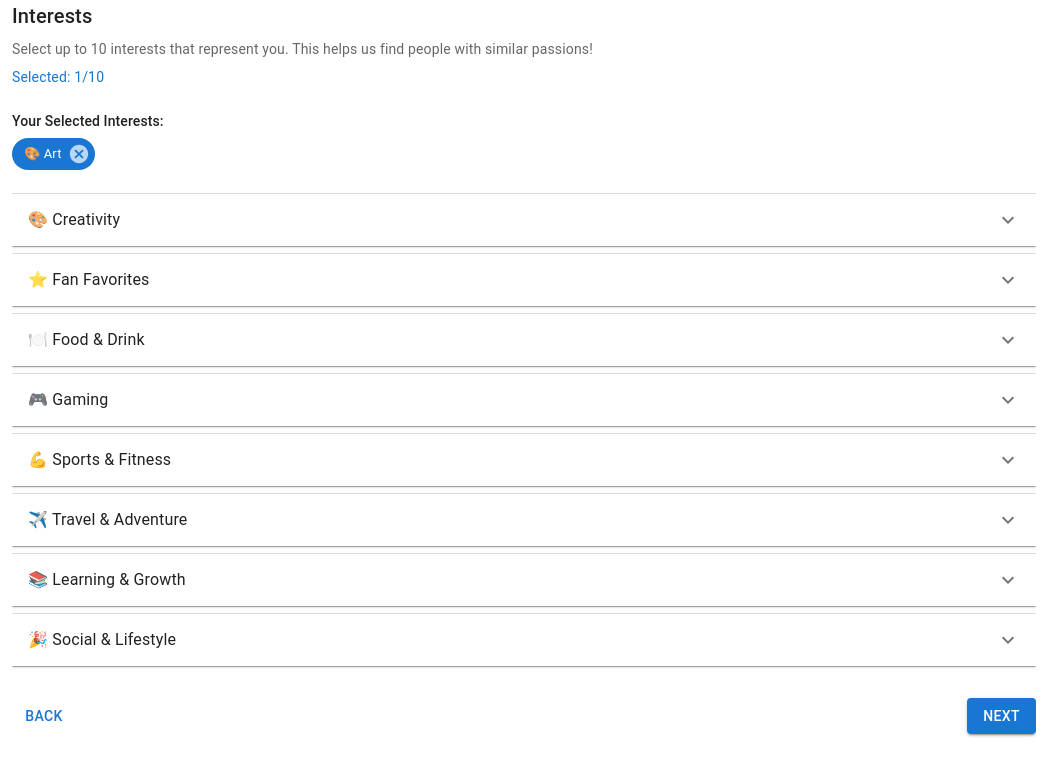
Test: InterestsStep Validation › Interest Selection Logic › should allow deselecting interests from selected list
Expected: the text "Selected: 1/10" is shown, [12, 69, 104, 85]
Click the icon below "Your Selected Interests:" at (79, 154), box [68, 143, 90, 165]
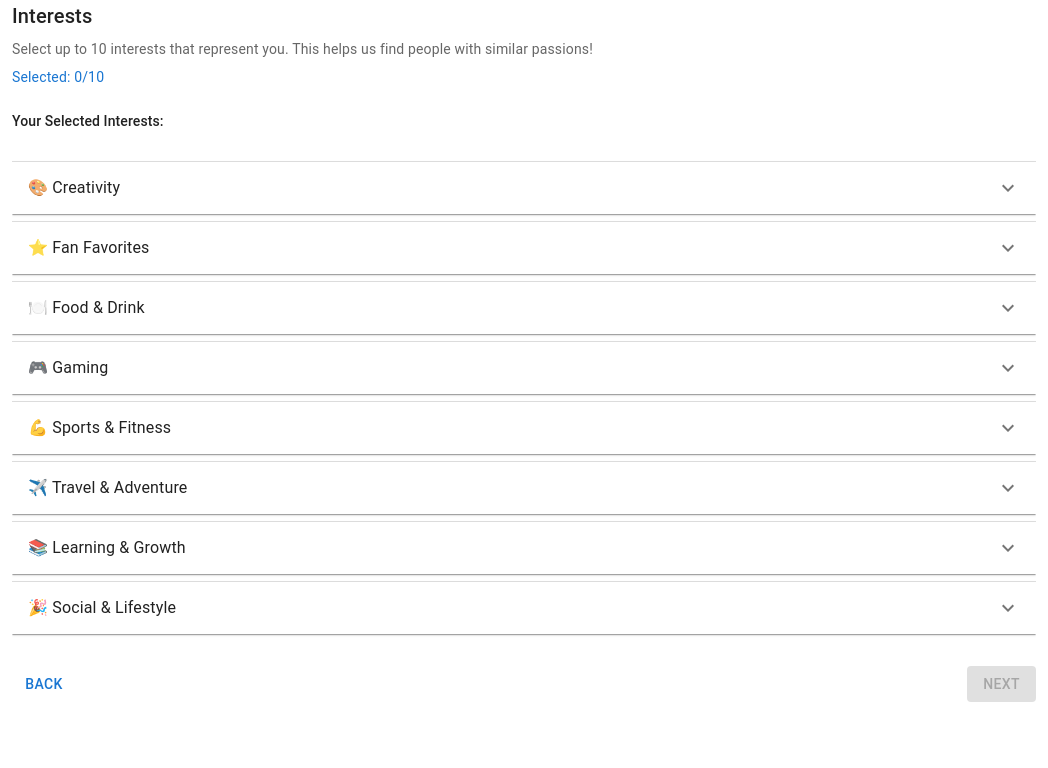
Expected: the text "Selected: 0/10" is shown, [12, 69, 104, 85]
